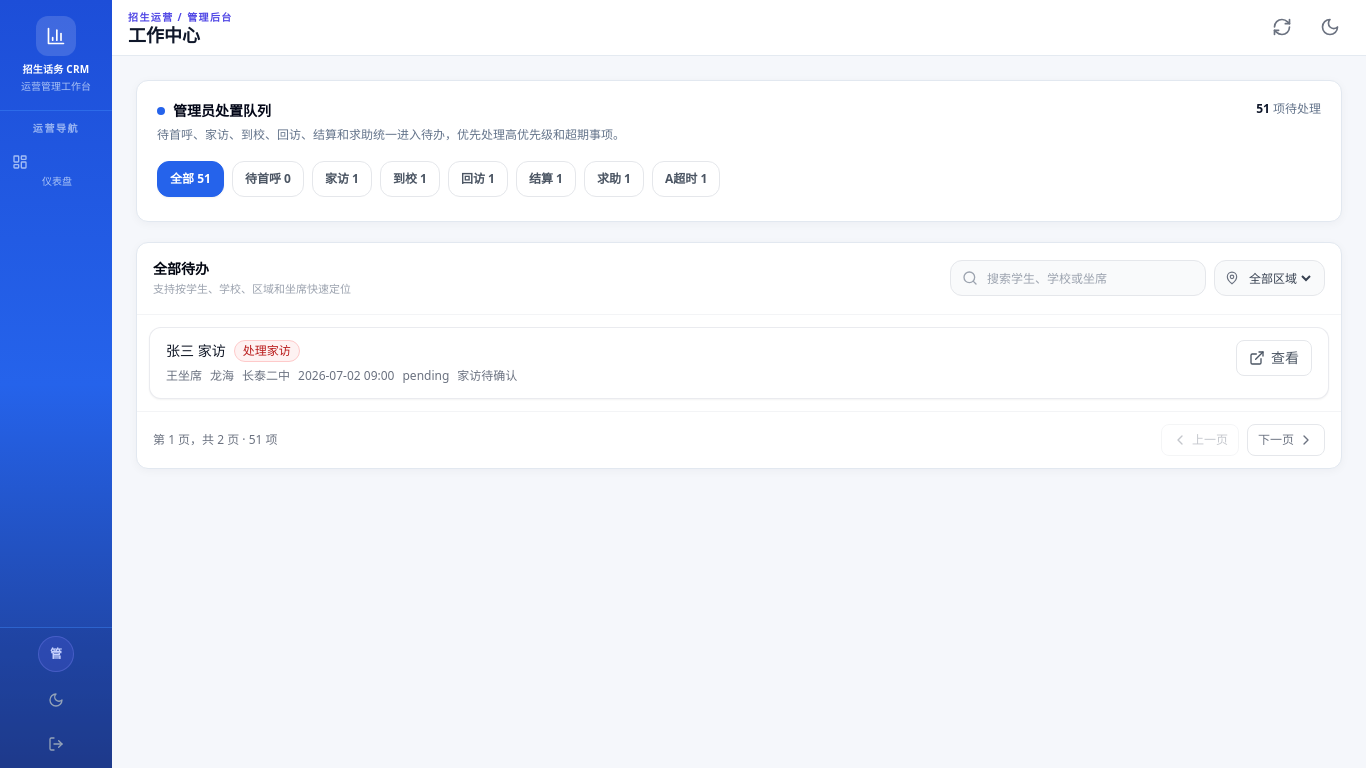
Test: AdminWorkCenter › uses server pagination when the queue has more than one page
This screenshot has width=1366, height=768.
expect the text "张三 家访" is shown: met, box [166,340,226,360]
What coordinates should you click on to do the following:
click the button "下一页"
I would click on:
 (1286, 440)
Its box is [1247,424,1325,456].
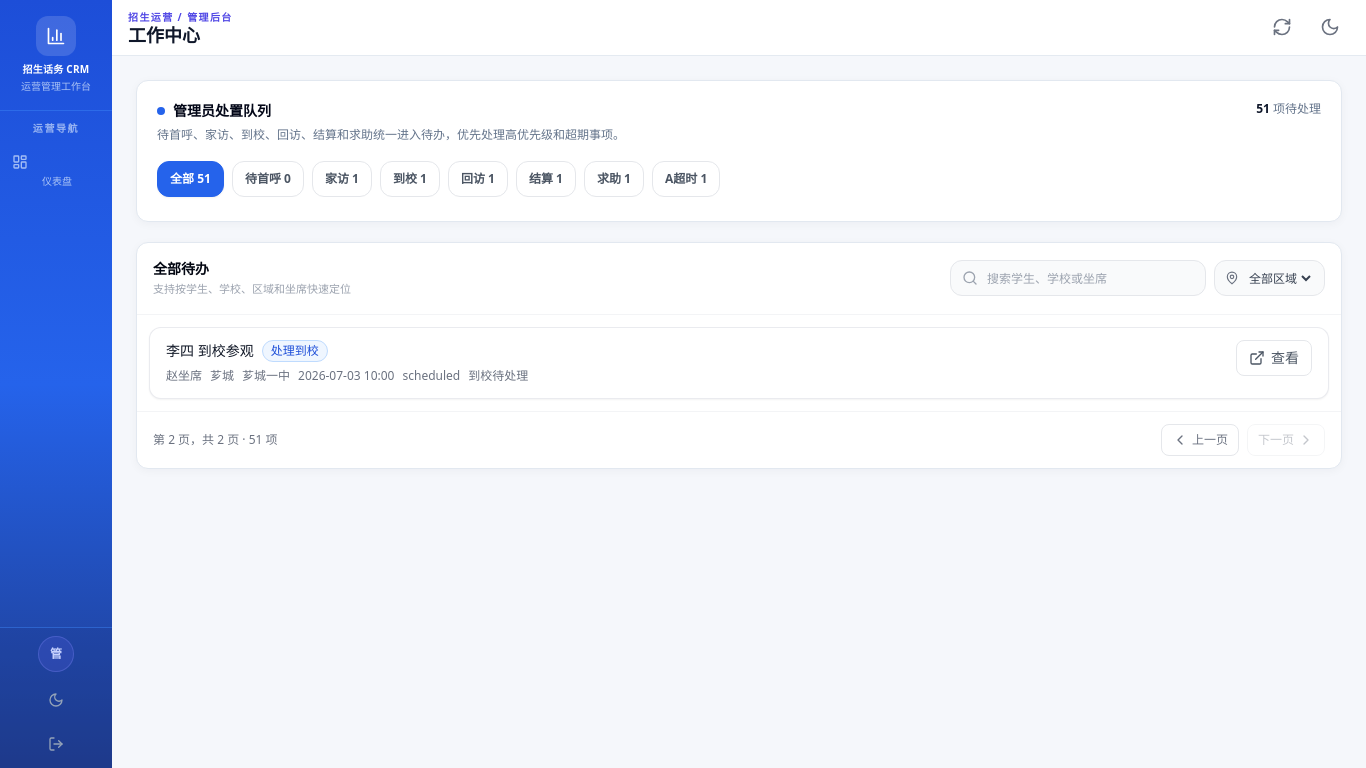
expect the text "李四 到校参观" is shown: met, box [166,340,254,360]
